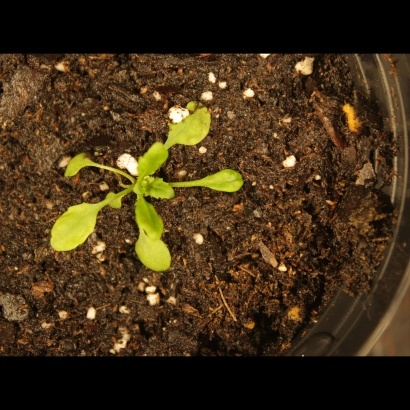leaf: (41, 201, 103, 253), (161, 94, 213, 149), (131, 194, 167, 243), (131, 232, 174, 273), (201, 168, 253, 200), (136, 141, 169, 185), (61, 151, 97, 182), (142, 173, 178, 200), (105, 191, 128, 214)
